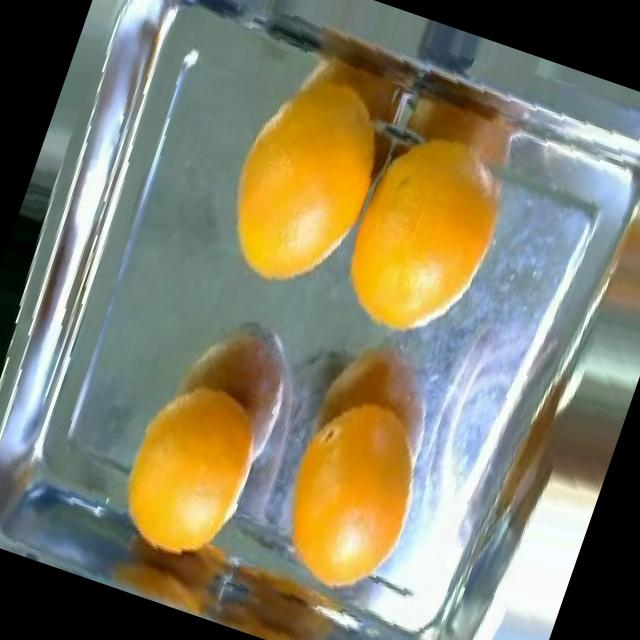Fruit: (254, 376, 448, 624), (321, 133, 523, 370), (202, 118, 379, 312)
